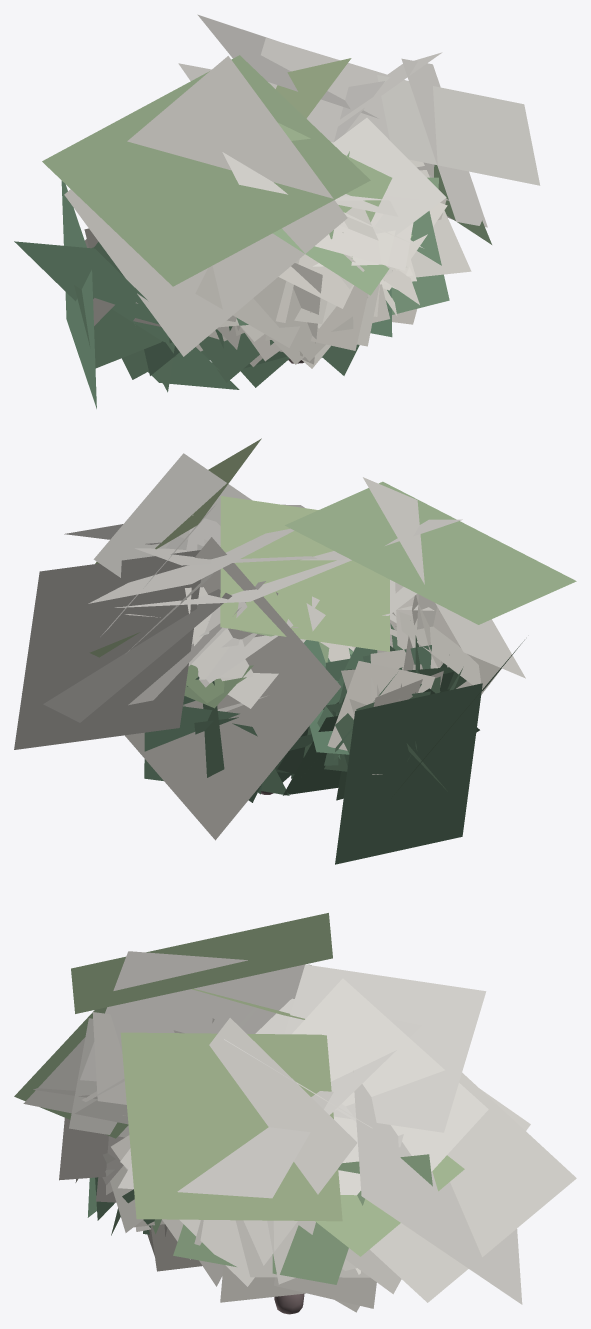
The model's file is hawthorn_v1.glb.
3 renders of one model, top to bottom at view 1: azimuth 30°, elevation 25°; view 2: azimuth 150°, elevation 25°; view 3: azimuth 270°, elevation 25°, orthographic. The views are drawn at different scales.
Visible parts, largest first — view 1: far, near; view 2: far, near; view 3: far, near.
Part boxes in pixels (x1,y1,x2,y2): far: (14, 14, 540, 408); near: (74, 81, 471, 392); far: (14, 438, 576, 864); near: (89, 504, 501, 802); far: (71, 913, 576, 1304); near: (14, 1005, 464, 1314).
Bounding box in the file's own units: 10.31 × 7.58 × 9.96.
